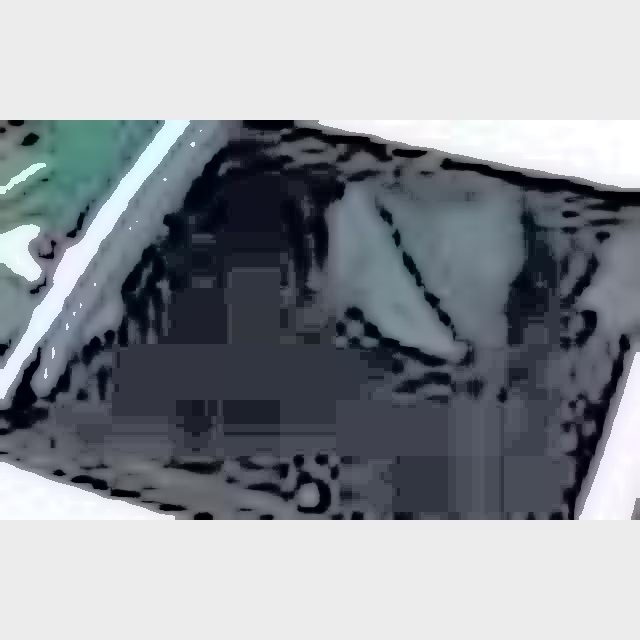pakai: (309, 176, 485, 366)
